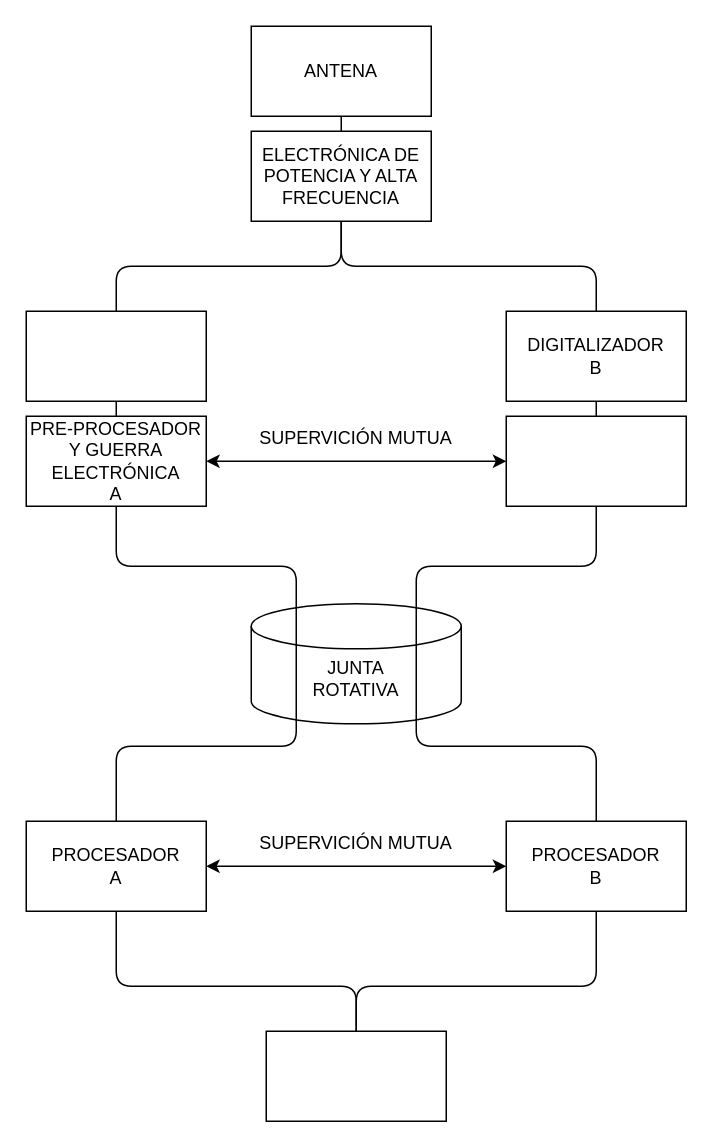
Image size: 713x1148. Some labels were removed from this diagram. The shapes that lost their labels are listed below. From the top down, each one's centre as x and y in pixels, then its label:
pixel 115 355: DIGITALIZADOR A
pixel 595 460: PRE-PROCESADOR Y GUERRA ELECTRÓNICA B
pixel 355 1075: CONSOLA RADAR
